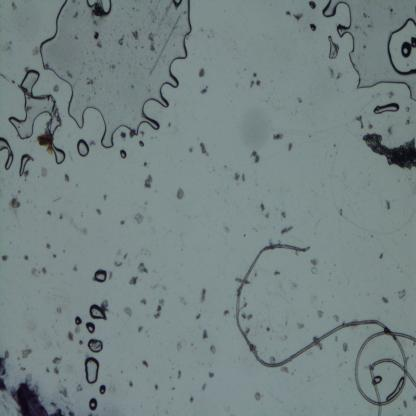Air bubble: (37, 0, 198, 150), (321, 1, 416, 103), (0, 68, 67, 164), (0, 135, 14, 171), (83, 358, 99, 386), (84, 0, 113, 15), (326, 34, 340, 63), (18, 153, 34, 178), (90, 302, 110, 322), (373, 102, 401, 116), (87, 338, 104, 354), (77, 138, 91, 156), (94, 268, 108, 284), (400, 41, 412, 59), (87, 397, 98, 412), (85, 322, 96, 334), (172, 0, 184, 10), (98, 384, 107, 396), (121, 146, 127, 160), (74, 316, 82, 326), (310, 22, 318, 32), (138, 140, 146, 148), (309, 2, 316, 10)
Background material: (362, 131, 416, 172), (36, 133, 53, 155), (307, 253, 322, 276), (153, 298, 165, 318), (329, 65, 343, 80), (149, 30, 158, 53), (142, 174, 154, 190), (249, 72, 261, 88), (280, 224, 295, 236), (93, 29, 103, 47), (234, 171, 247, 184), (271, 130, 285, 142), (381, 196, 391, 212), (250, 150, 260, 166), (260, 204, 270, 220), (10, 197, 23, 209), (293, 10, 306, 22), (127, 274, 139, 287), (21, 346, 33, 359), (25, 368, 33, 387), (200, 143, 210, 158), (0, 356, 7, 377), (357, 114, 366, 130), (0, 378, 9, 394), (131, 29, 143, 41), (175, 186, 186, 199), (342, 340, 350, 357), (222, 223, 231, 238), (396, 288, 407, 300), (200, 82, 210, 95), (134, 211, 144, 224), (124, 305, 133, 319), (199, 286, 206, 304), (40, 165, 49, 179), (95, 5, 104, 19), (138, 264, 149, 275), (59, 387, 70, 398), (382, 293, 392, 305), (52, 356, 64, 366), (64, 66, 74, 78), (297, 318, 306, 331), (253, 389, 262, 402), (197, 66, 206, 79), (240, 311, 254, 319), (121, 250, 132, 260), (135, 323, 145, 334), (316, 309, 325, 321), (186, 145, 196, 155), (67, 332, 77, 342), (141, 360, 151, 370), (222, 306, 230, 318), (202, 328, 210, 340), (200, 381, 208, 393), (113, 258, 123, 267), (1, 252, 10, 262), (116, 34, 125, 44), (51, 400, 59, 411), (384, 123, 392, 134), (336, 204, 344, 215), (84, 74, 92, 85), (53, 367, 62, 376), (273, 268, 282, 277), (126, 130, 135, 139), (57, 211, 66, 220), (280, 366, 290, 374), (153, 382, 161, 392), (9, 1, 19, 9), (32, 48, 40, 58), (57, 302, 63, 315), (3, 349, 10, 360), (404, 118, 412, 127), (75, 384, 84, 392), (42, 264, 48, 276), (140, 298, 148, 307), (119, 129, 127, 138), (285, 8, 292, 18), (404, 104, 411, 114), (72, 264, 79, 274), (188, 394, 195, 404), (45, 242, 51, 253), (78, 228, 89, 234), (96, 208, 104, 216), (71, 11, 79, 19), (211, 346, 218, 355), (208, 370, 215, 379), (177, 370, 183, 380), (281, 209, 287, 219), (268, 355, 275, 363), (362, 12, 370, 19), (195, 312, 202, 320), (108, 269, 113, 280), (266, 323, 272, 332), (90, 9, 96, 18), (368, 121, 373, 131), (288, 142, 293, 152), (75, 325, 82, 332), (367, 22, 373, 30), (298, 96, 304, 104), (64, 174, 70, 182), (20, 366, 28, 372), (24, 254, 30, 262), (119, 219, 125, 226), (110, 62, 116, 69), (92, 20, 98, 27), (131, 6, 138, 12), (46, 209, 52, 216), (68, 411, 76, 416), (79, 337, 84, 345), (129, 380, 134, 388), (177, 342, 182, 350), (45, 366, 50, 374), (142, 158, 147, 166), (53, 84, 58, 92), (380, 252, 384, 260), (52, 254, 57, 260), (102, 194, 107, 200), (363, 45, 367, 49), (390, 7, 393, 12), (132, 85, 134, 89), (150, 0, 152, 4)
Microfibre: (235, 242, 416, 404), (367, 354, 416, 414)
Pen: (12, 382, 64, 415)
